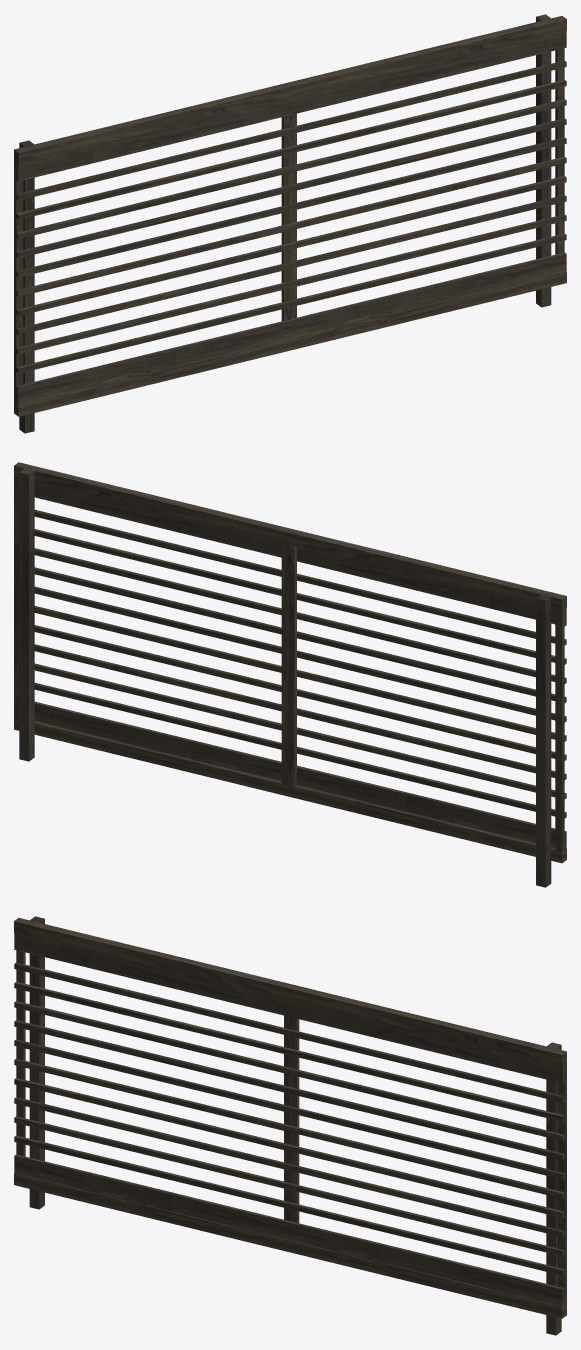
Rendered from EAFyokoitagoushi_w1998-h920_blackebony.fbx.
The picture shows the model from 3 angles, top to bottom: view 1: azimuth 30°, elevation 25°; view 2: azimuth 150°, elevation 25°; view 3: azimuth 330°, elevation 25°; orthographic projection.
Parts seen in each view (by area): view 1: EAFyokoitagoushi_w1998-h920_blackebony; view 2: EAFyokoitagoushi_w1998-h920_blackebony; view 3: EAFyokoitagoushi_w1998-h920_blackebony.
Part boxes in pixels (box(x1,y1,x2,y2)): EAFyokoitagoushi_w1998-h920_blackebony: box(14, 14, 566, 433); EAFyokoitagoushi_w1998-h920_blackebony: box(14, 462, 566, 887); EAFyokoitagoushi_w1998-h920_blackebony: box(14, 916, 566, 1335).
Bounding box in the file's own units: 200 × 100 × 6.5.
1 material, 1 textured.
